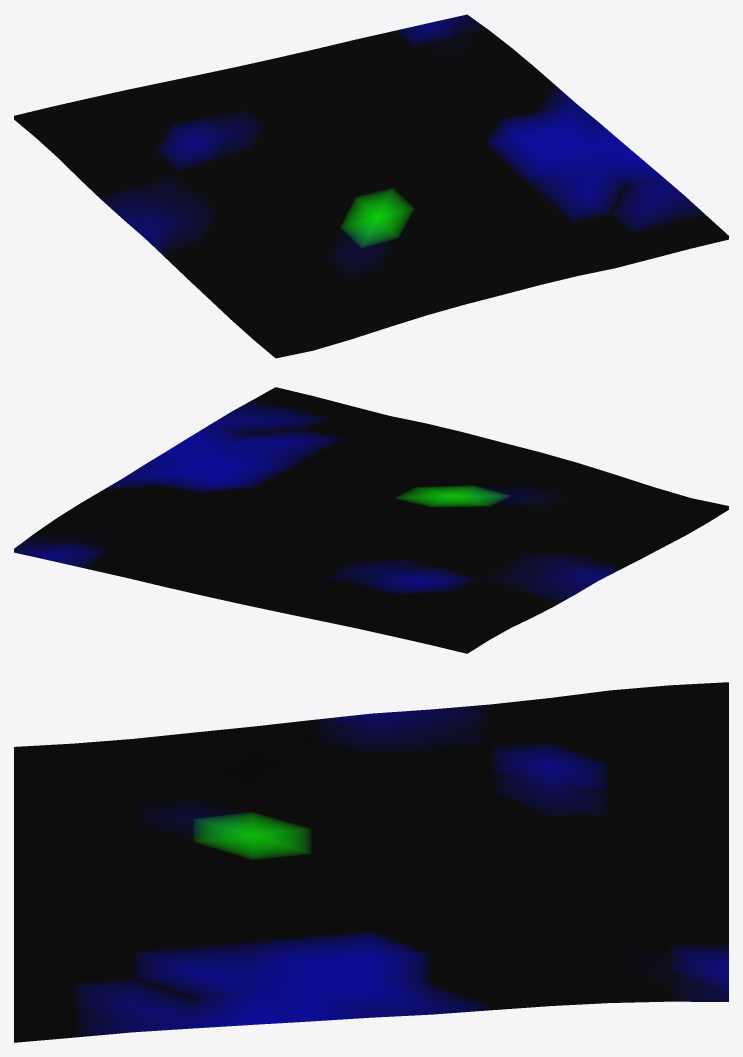
File: coast_7_2.glb
3 views of the same model, one above another, from view 1: azimuth 30°, elevation 25°; view 2: azimuth 150°, elevation 25°; view 3: azimuth 270°, elevation 25° (orthographic). The views are drawn at different scales.
Visible parts, largest first — view 1: terrain; view 2: terrain; view 3: terrain.
Part boxes in pixels (x1,y1,x2,y2): terrain: (14,14,728,358); terrain: (14,387,728,653); terrain: (14,682,728,1042).
Bounding box in the file's own units: 192 × 21.23 × 192.
